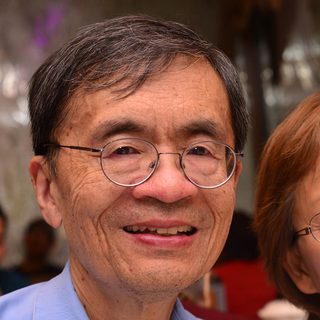eye: (100, 139, 149, 163), (181, 136, 214, 166)
